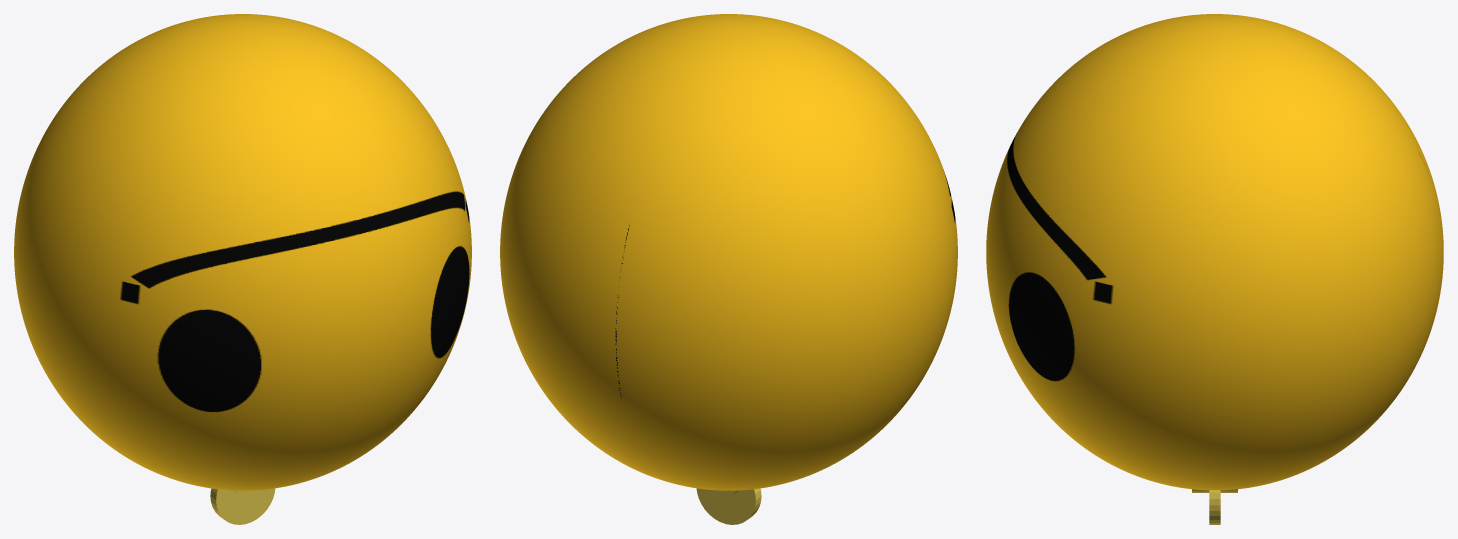
Rendered from yellow_balloon.glb.
The picture shows the model from 3 angles, left to right: view 1: azimuth 30°, elevation 25°; view 2: azimuth 150°, elevation 25°; view 3: azimuth 270°, elevation 25°; orthographic projection.
Visible parts, largest first — view 1: world; view 2: world; view 3: world.
Part boxes in pixels (<box>): world: <box>14,14,471,524</box>; world: <box>500,14,957,524</box>; world: <box>986,14,1443,524</box>.
Size of the model in its own units: 2 by 2.35 by 2.
Materials: 1 (1 with a texture image).
